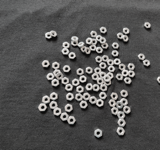nut: (95, 129, 103, 139), (38, 104, 48, 112), (117, 128, 126, 136), (61, 113, 69, 122), (54, 108, 62, 117), (49, 102, 58, 110), (42, 96, 50, 105), (118, 112, 126, 120), (68, 117, 76, 125), (50, 93, 58, 101), (65, 105, 73, 113), (80, 101, 88, 109), (116, 101, 124, 109), (109, 100, 117, 108), (121, 90, 129, 98), (90, 97, 98, 105), (83, 93, 91, 101), (66, 93, 74, 101), (65, 84, 73, 92), (52, 79, 60, 87), (72, 79, 80, 87), (52, 62, 60, 70), (121, 98, 128, 107), (118, 120, 126, 127), (112, 108, 119, 116), (97, 100, 104, 108), (111, 93, 118, 101), (99, 93, 107, 100), (76, 94, 83, 102), (86, 84, 94, 91), (77, 86, 84, 94), (62, 77, 69, 85), (56, 73, 64, 80), (116, 74, 124, 81), (86, 67, 93, 75), (143, 60, 151, 67), (138, 54, 146, 61), (42, 61, 50, 68), (63, 66, 71, 73), (128, 64, 136, 71), (108, 66, 116, 73), (124, 107, 131, 114), (125, 78, 132, 85), (101, 85, 108, 92), (93, 85, 100, 92), (54, 70, 61, 77), (105, 79, 112, 86), (97, 78, 104, 85), (80, 76, 87, 83), (92, 74, 99, 81), (104, 76, 111, 83), (107, 73, 114, 80), (100, 72, 107, 79), (95, 68, 102, 75), (77, 69, 84, 76), (129, 71, 136, 78), (122, 70, 129, 77), (119, 64, 126, 71), (114, 59, 121, 66), (96, 56, 103, 63), (122, 35, 129, 42), (69, 52, 76, 59), (63, 42, 70, 49), (50, 31, 57, 38), (96, 47, 103, 54), (81, 46, 88, 53), (100, 27, 107, 34), (86, 38, 93, 45), (91, 31, 98, 38), (47, 74, 55, 80), (102, 56, 110, 62), (112, 43, 120, 49), (62, 49, 70, 55), (99, 38, 107, 44), (100, 63, 107, 69), (108, 60, 115, 66), (112, 51, 119, 57), (123, 28, 130, 34), (45, 33, 52, 39), (102, 43, 109, 49), (84, 48, 91, 54), (90, 45, 97, 51), (78, 42, 85, 48), (72, 41, 79, 47), (96, 36, 103, 42), (118, 33, 124, 39), (92, 39, 98, 45), (72, 37, 79, 42), (145, 23, 151, 28), (157, 77, 160, 84)
